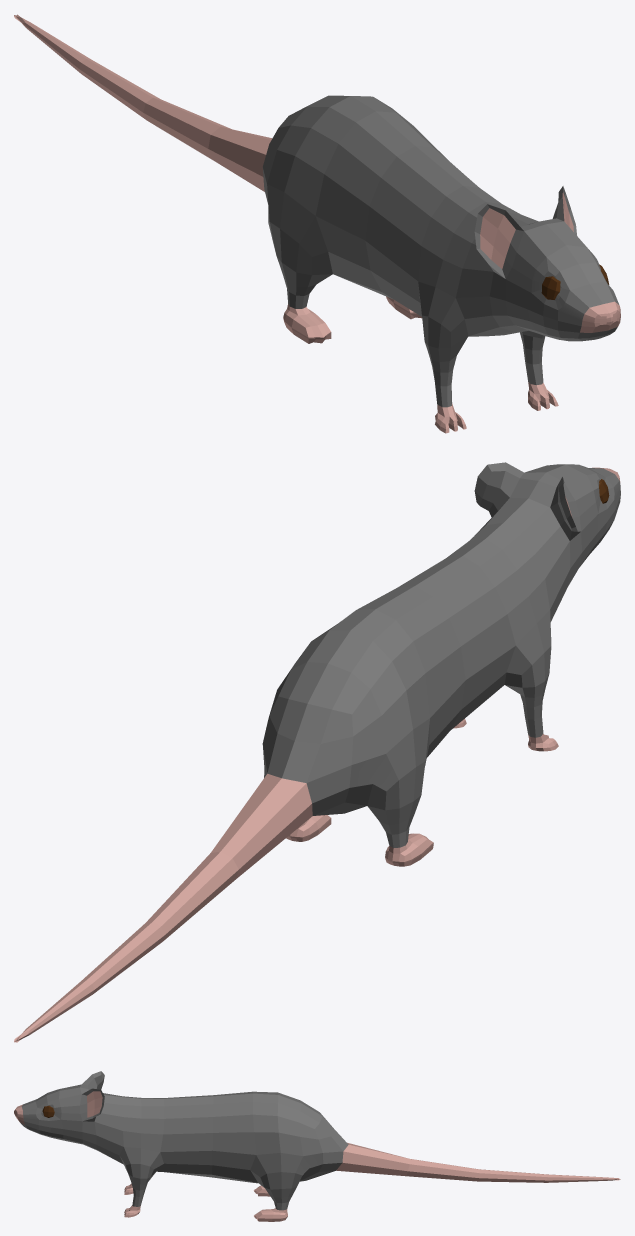
The picture shows the model from 3 angles, top to bottom: view 1: azimuth 30°, elevation 25°; view 2: azimuth 150°, elevation 25°; view 3: azimuth 270°, elevation 25°; orthographic projection. The views are drawn at different scales.
Parts seen in each view (by area): view 1: Cube.001; view 2: Cube.001; view 3: Cube.001.
Boxes of the visible parts, x1,y1,x2,y2 form: Cube.001: (14,14,620,433); Cube.001: (14,462,620,1042); Cube.001: (14,1071,620,1221).
Size of the model in its own units: 4.08 by 7.13 by 31.07.
